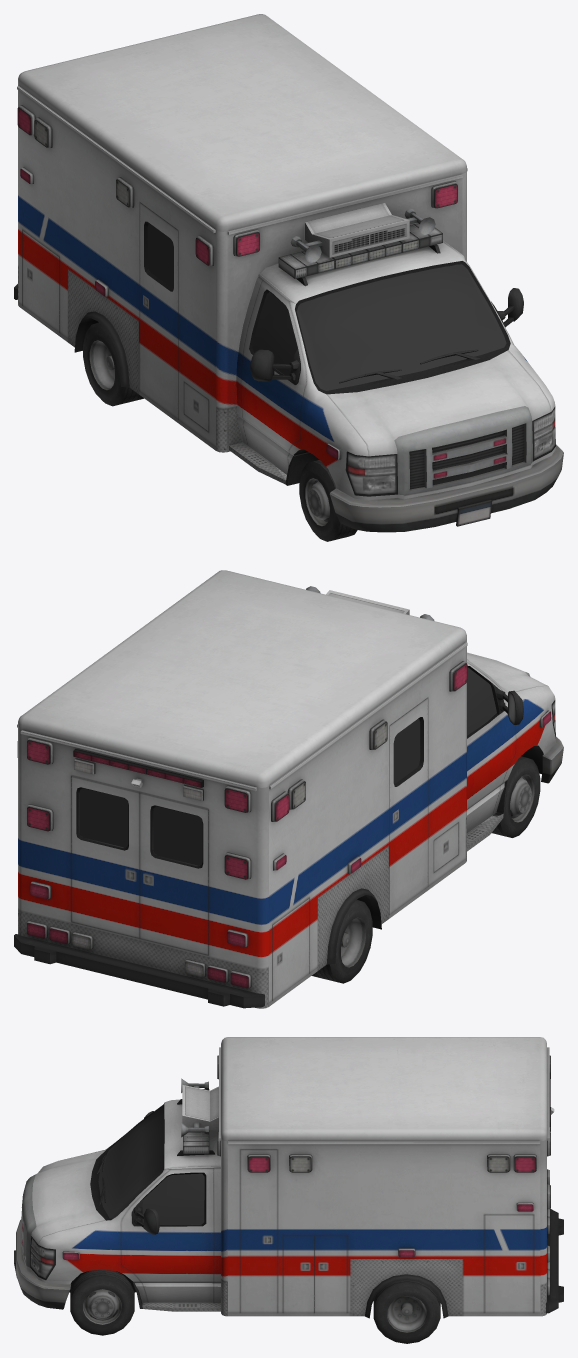
Rendered from ambulance.fbx.
3 views of the same model, one above another, from view 1: azimuth 30°, elevation 25°; view 2: azimuth 150°, elevation 25°; view 3: azimuth 270°, elevation 25° (orthographic). The views are drawn at different scales.
Visible parts, largest first — view 1: ambulance, T_B_R, T_F_R; view 2: ambulance, T_B_R, T_F_R; view 3: ambulance, T_F_L, T_B_L.
Boxes of the visible parts, box(x1,y1,x2,y2) form: ambulance: box(14, 14, 563, 532); T_B_R: box(83, 322, 143, 406); T_F_R: box(299, 460, 357, 541); ambulance: box(14, 570, 563, 1008); T_B_R: box(311, 900, 372, 983); T_F_R: box(492, 756, 540, 837); ambulance: box(14, 1037, 563, 1318); T_F_L: box(70, 1270, 134, 1335); T_B_L: box(373, 1280, 440, 1343).
Size of the model in its own units: 20.88 by 19.87 by 46.34.
Materials: 1 (1 with a texture image).
